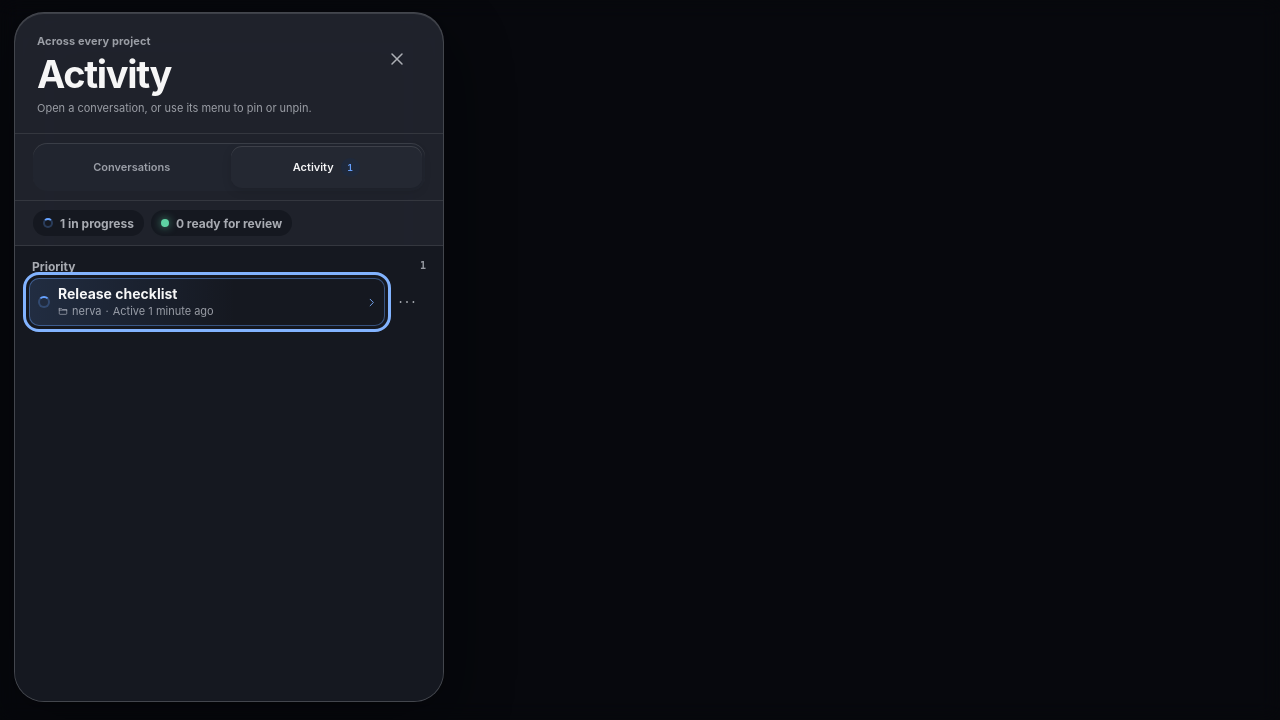
Activity accessible actions › supports arrow navigation, Escape and restoration without closing Activity
The width and height of the screenshot is (1280, 720).
Click the button named "Actions for Release checklist".
click(407, 302)  # box x1=385 y1=278 x2=429 y2=326
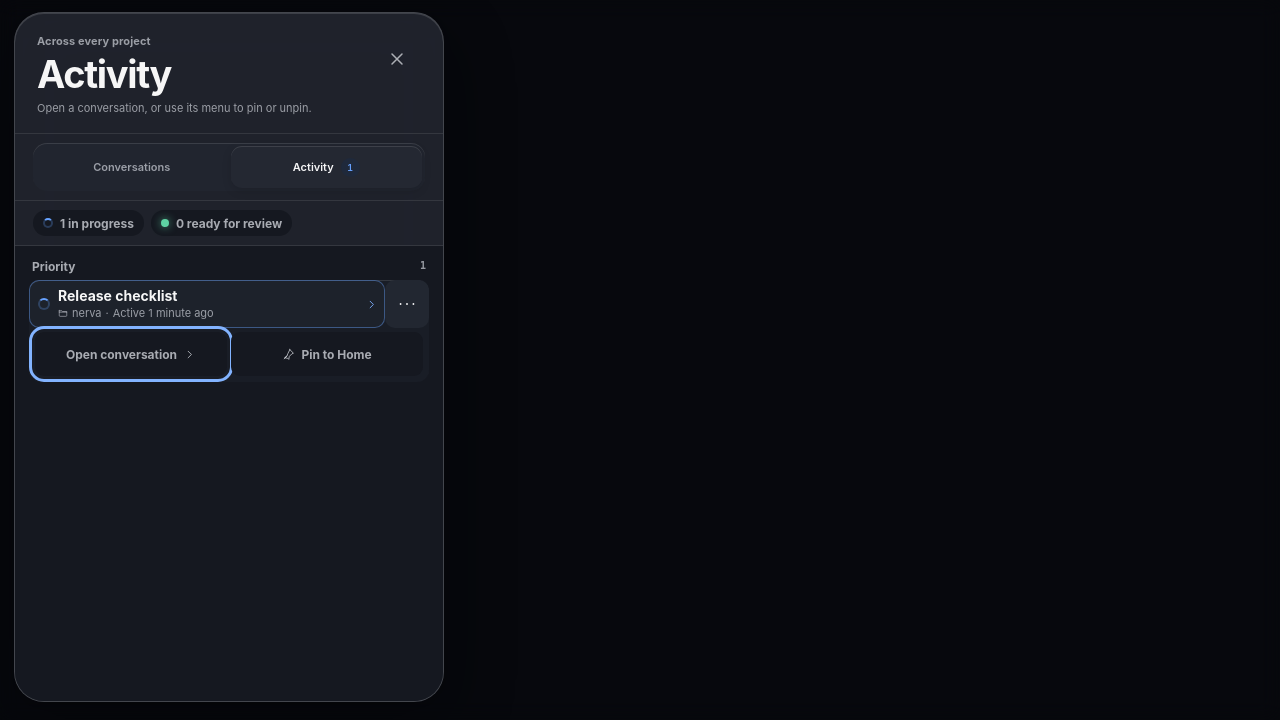
Press ArrowDown in the menu item "Open conversation", box x1=35 y1=332 x2=227 y2=376
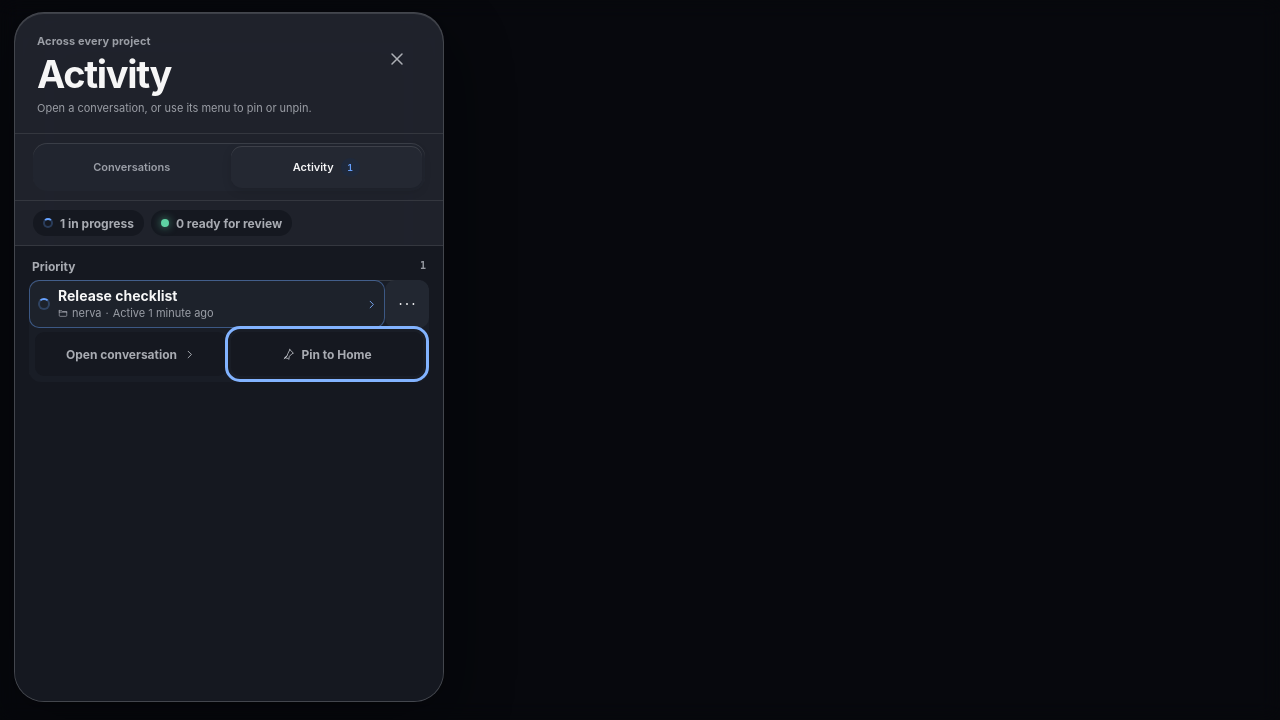
Press Escape in the menu item "Pin to Home", box x1=231 y1=332 x2=423 y2=376
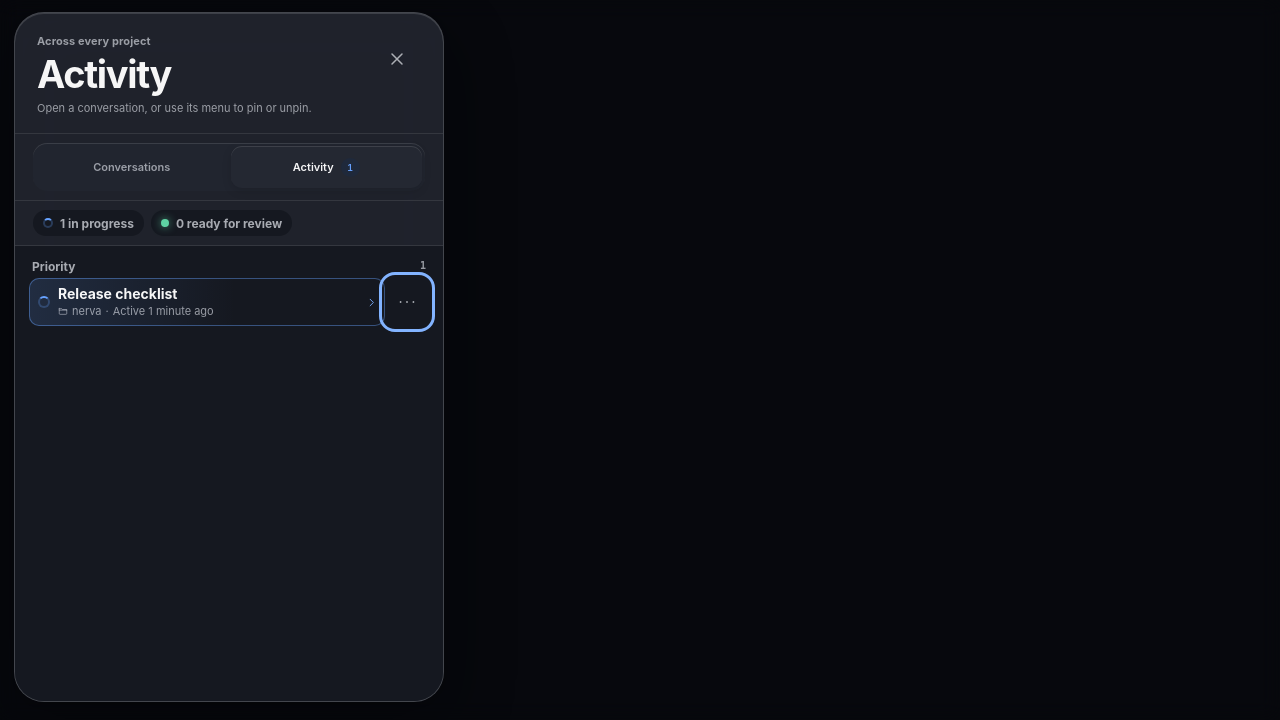
Check: the menu is gone
